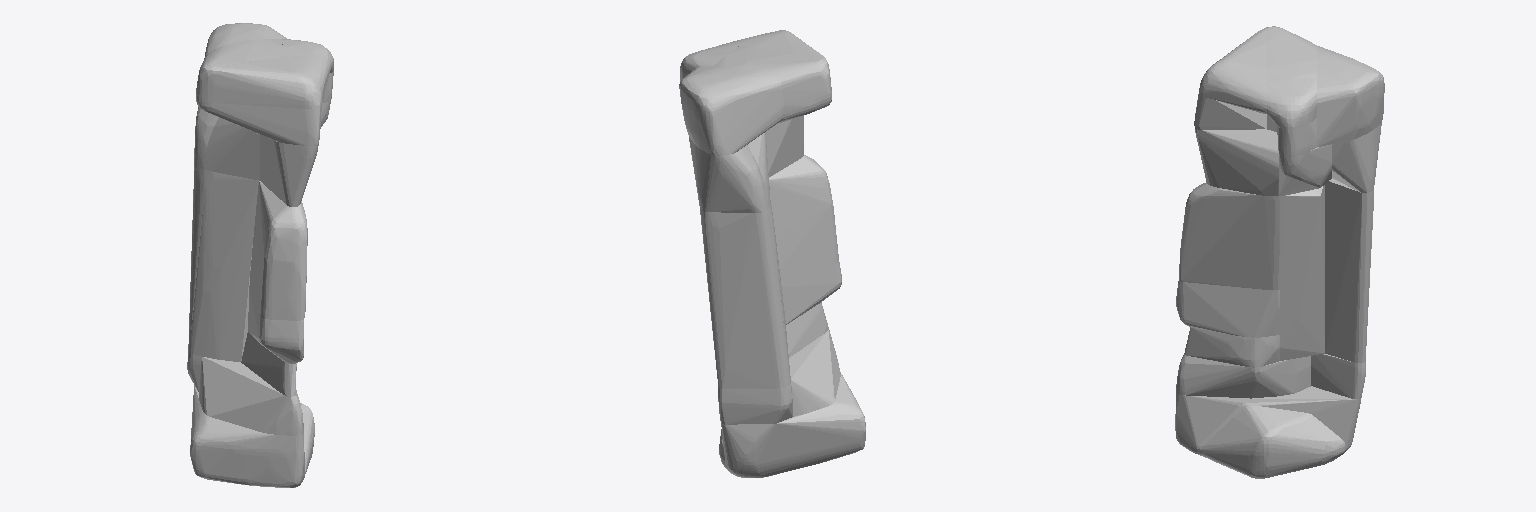
Rendered from transformed_0_decomposed.obj.
3 renders of one model, left to right at view 1: azimuth 30°, elevation 25°; view 2: azimuth 150°, elevation 25°; view 3: azimuth 270°, elevation 25°, orthographic.
Parts seen in each view (by area): view 1: geometry_5, geometry_11, geometry_10, geometry_2, geometry_6, geometry_1, geometry_0, geometry_7, geometry_12, geometry_19, geometry_14, geometry_8 (+4 smaller); view 2: geometry_8, geometry_11, geometry_9, geometry_10, geometry_3, geometry_19, geometry_6, geometry_4, geometry_12, geometry_0, geometry_14, geometry_2 (+3 smaller); view 3: geometry_10, geometry_8, geometry_5, geometry_13, geometry_9, geometry_12, geometry_0, geometry_6, geometry_2, geometry_11, geometry_14, geometry_17 (+7 smaller).
Part boxes in pixels (left/top/right/bottom): geometry_5: left=190, top=171, right=258, bottom=361; geometry_11: left=190, top=385, right=304, bottom=487; geometry_10: left=250, top=181, right=307, bottom=320; geometry_2: left=205, top=55, right=330, bottom=108; geometry_6: left=199, top=357, right=303, bottom=435; geometry_1: left=205, top=102, right=321, bottom=145; geometry_0: left=260, top=135, right=318, bottom=206; geometry_7: left=202, top=100, right=330, bottom=180; geometry_12: left=248, top=286, right=303, bottom=363; geometry_19: left=196, top=39, right=297, bottom=101; geometry_14: left=241, top=332, right=296, bottom=396; geometry_8: left=188, top=163, right=207, bottom=352; geometry_8: left=700, top=205, right=788, bottom=388; geometry_11: left=721, top=374, right=865, bottom=477; geometry_9: left=679, top=66, right=783, bottom=155; geometry_10: left=769, top=155, right=838, bottom=280; geometry_3: left=689, top=137, right=769, bottom=212; geometry_19: left=714, top=47, right=831, bottom=105; geometry_6: left=789, top=330, right=840, bottom=416; geometry_4: left=718, top=385, right=792, bottom=424; geometry_12: left=781, top=261, right=841, bottom=324; geometry_0: left=766, top=116, right=803, bottom=176; geometry_14: left=786, top=302, right=828, bottom=357; geometry_2: left=719, top=30, right=828, bottom=64; geometry_10: left=1179, top=182, right=1279, bottom=290; geometry_8: left=1325, top=178, right=1373, bottom=362; geometry_5: left=1280, top=185, right=1324, bottom=360; geometry_13: left=1201, top=406, right=1344, bottom=478; geometry_9: left=1317, top=46, right=1384, bottom=146; geometry_12: left=1176, top=281, right=1279, bottom=337; geometry_0: left=1195, top=129, right=1278, bottom=195; geometry_6: left=1176, top=354, right=1310, bottom=398; geometry_2: left=1199, top=27, right=1266, bottom=113; geometry_11: left=1175, top=386, right=1360, bottom=457; geometry_14: left=1184, top=327, right=1279, bottom=367; geometry_17: left=1267, top=77, right=1316, bottom=129.
Bounding box in the file's own units: 0.1022 × 0.2453 × 0.1134.